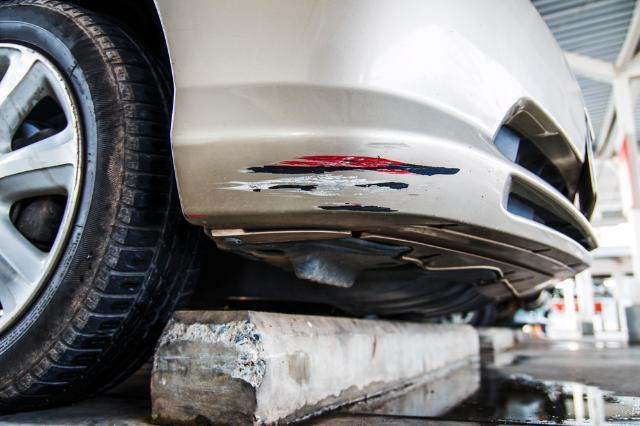scratch: (217, 137, 467, 215)
